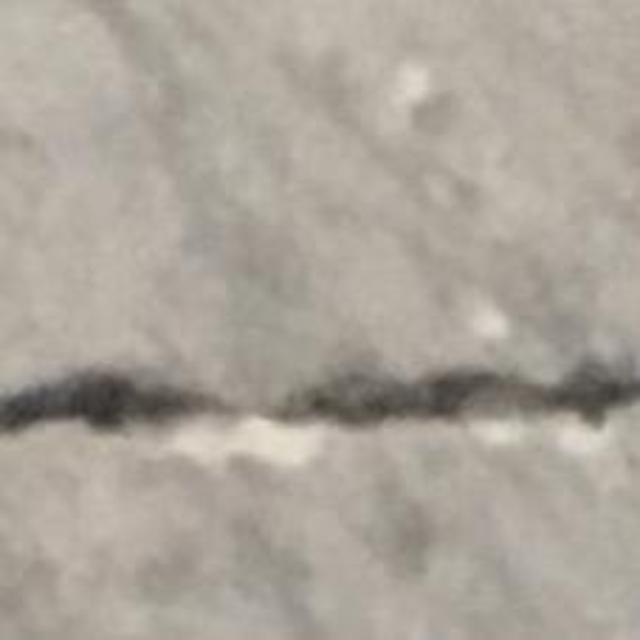crack: (0, 370, 639, 434)
